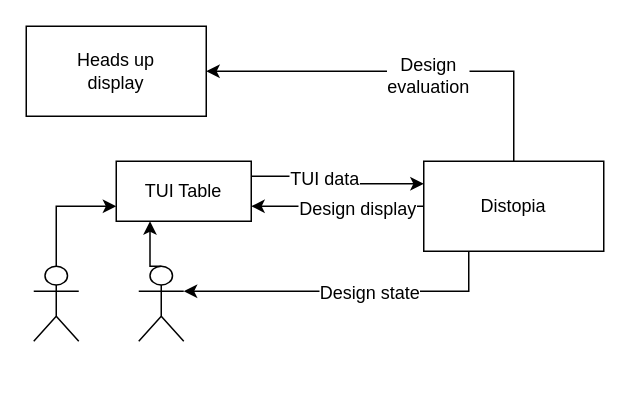
Image size: 630x399. Some labels were removed from this diagram. Here are the shapes that lost their labels. From the top down, the centre of each, then its label:
[55,303]: Human
[160,303]: Robot
